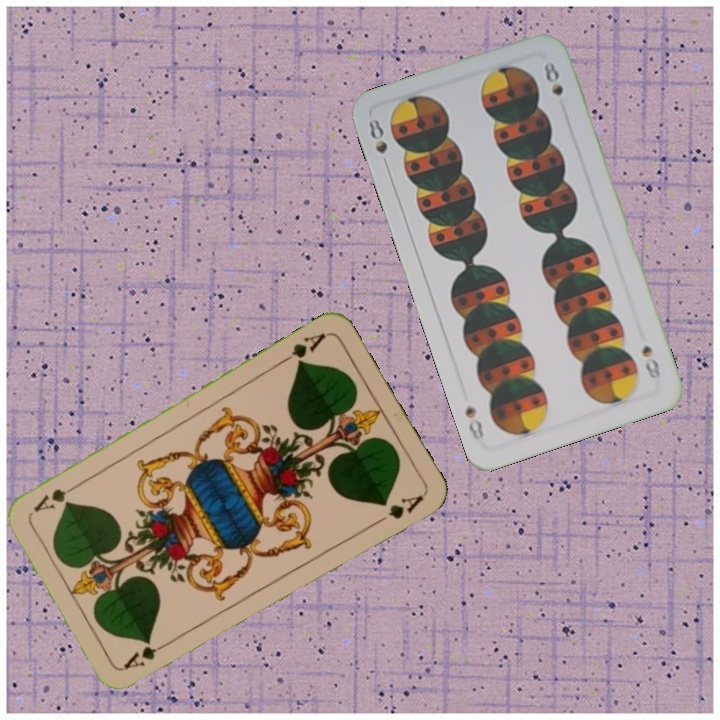GA: (276, 328, 329, 368), (119, 637, 174, 672)
S8: (364, 115, 392, 172), (637, 341, 663, 382)
